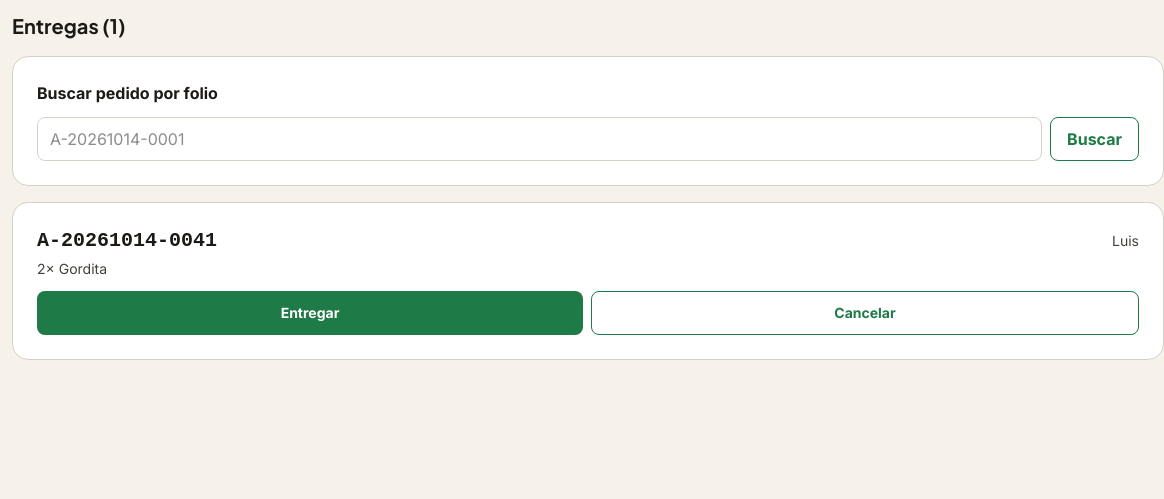
Test: caja: folio, detalle y resumen › buscar por folio muestra detalle y estado
This screenshot has width=1164, height=499.
Check: the text "A-20261014-0041" is shown, box [37,227,217,255]
Type "a-20261014-0050" into the field named "Folio del pedido" at (540, 139), box [37,117,1042,161]
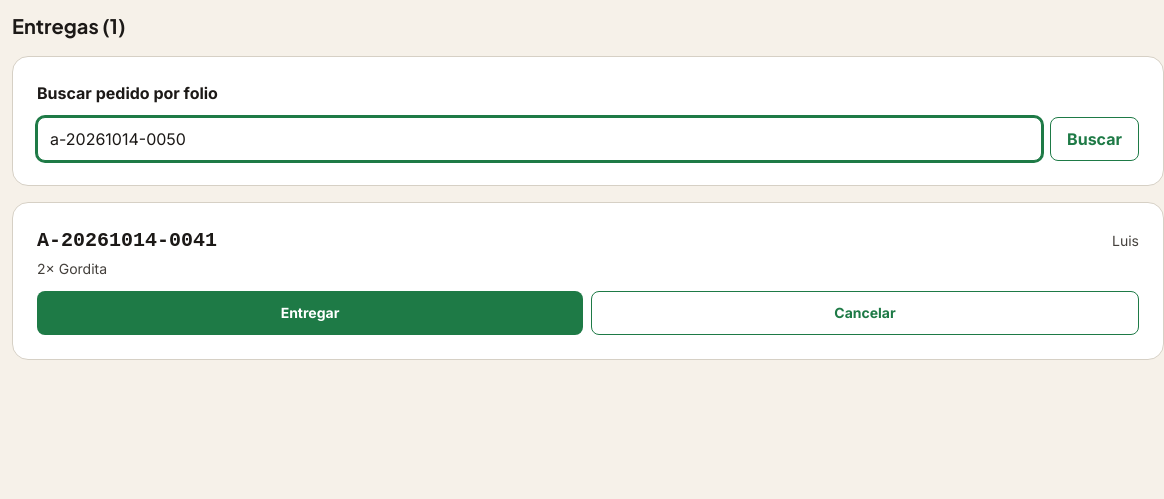
Click the button "Buscar" at (1095, 139), box [1050,117,1139,161]
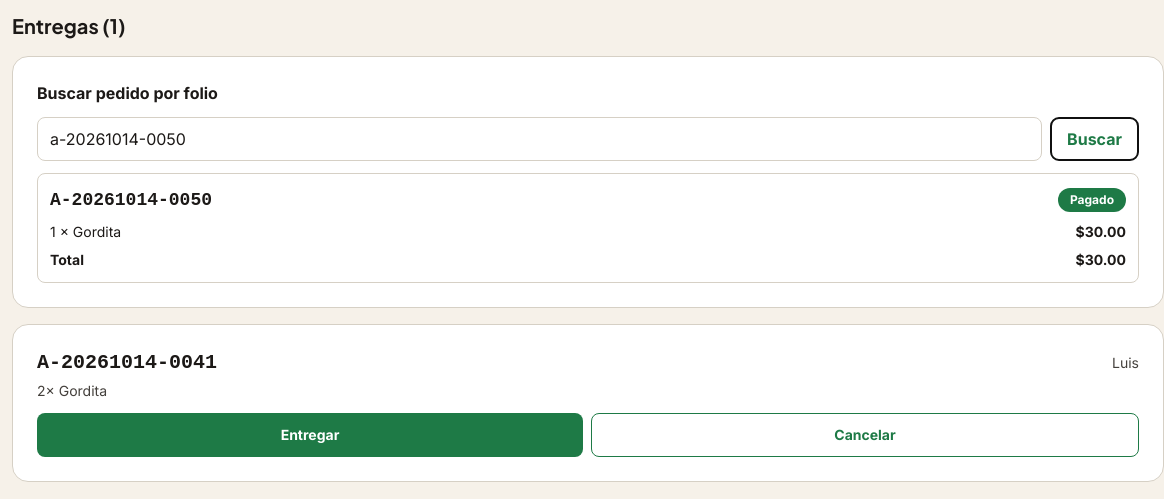
Check: the text "A-20261014-0050" is shown, box [50,186,212,214]
Check: the text "Pagado" is shown, box [1058,188,1126,212]
